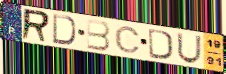B: (86, 18, 112, 52)
C: (113, 25, 142, 54)
D: (147, 27, 174, 61), (51, 13, 77, 46)
R: (20, 7, 52, 44)
U: (176, 31, 203, 64)
